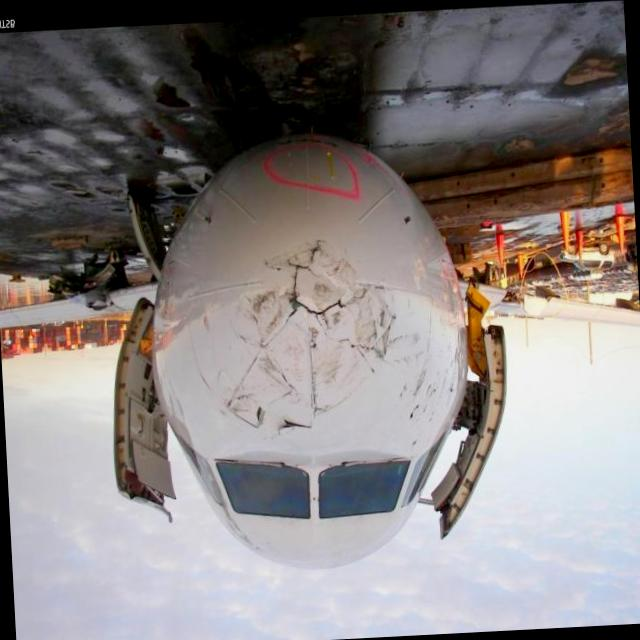crack: (212, 230, 406, 442)
